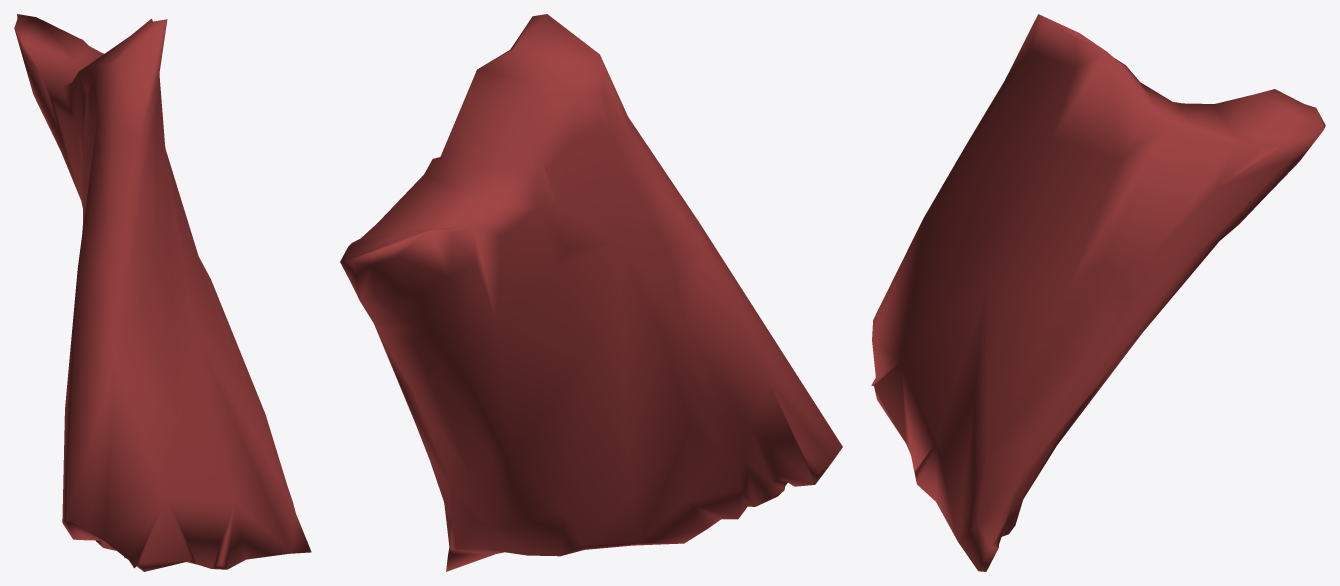
File: rectus-lateralis-capitis-muscle-l.glb
3 views of the same model, side by side, from view 1: azimuth 30°, elevation 25°; view 2: azimuth 150°, elevation 25°; view 3: azimuth 270°, elevation 25° (orthographic). The views are drawn at different scales.
Visible parts, largest first — view 1: Rectus lateralis capitis muscle.l; view 2: Rectus lateralis capitis muscle.l; view 3: Rectus lateralis capitis muscle.l.
Boxes of the visible parts, x1,y1,x2,y2 form: Rectus lateralis capitis muscle.l: [14, 14, 311, 571]; Rectus lateralis capitis muscle.l: [340, 14, 842, 571]; Rectus lateralis capitis muscle.l: [871, 14, 1325, 571].
Size of the model in its own units: 0.0123 by 0.0213 by 0.0174.
